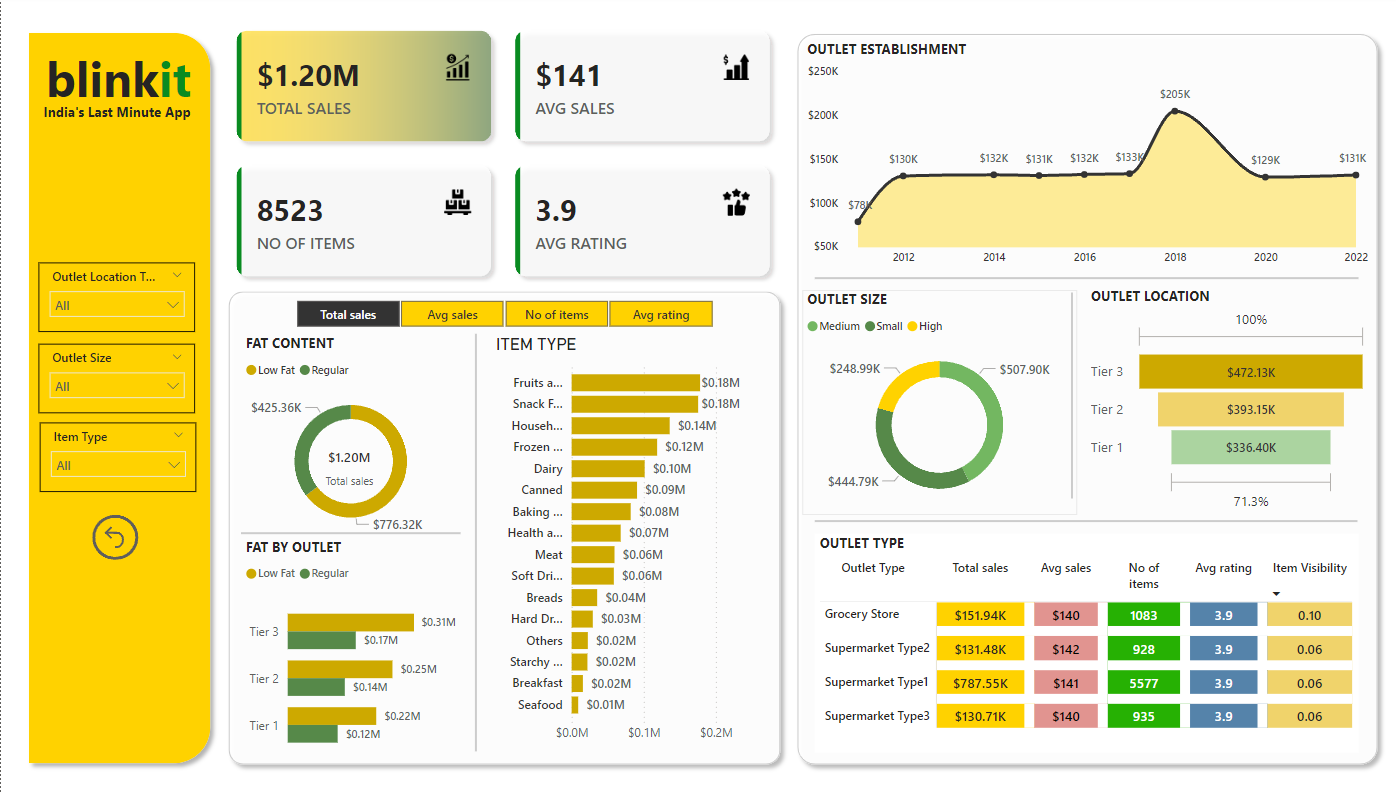

This screenshot's page, from the dashboard's own definition file:
{"tool":"powerbi","page":{"name":"Page 1","canvas":[1400,800],"ordinal":0},"visuals":[{"type":"cardVisual","fields":{"Data":["BlinkIT Grocery Data.Total sales","BlinkIT Grocery Data.Avg sales","BlinkIT Grocery Data.No of items","BlinkIT Grocery Data.Avg rating"]},"box":[218.8,13.6,569.3,281.3],"z":0},{"type":"shape","box":[18.6,24.3,200,750],"z":1000},{"type":"textbox","box":[31.4,40,172.9,90],"z":2000},{"type":"textbox","box":[37.1,97.1,167.1,32.9],"z":3000},{"type":"shape","box":[218.8,282.6,570.7,491.9],"z":4000},{"type":"donutChart","title":"FAT CONTENT","fields":{"Y":["BlinkIT Grocery Data.Total sales"],"Category":["BlinkIT Grocery Data.Item Fat Content"]},"box":[240.5,334.2,220.1,210.6],"z":5000},{"type":"slicer","fields":{"Values":["Metrics.Metrics"]},"box":[270.4,294.8,466,39.4],"z":6000},{"type":"cardVisual","fields":{"Data":["BlinkIT Grocery Data.Total sales"]},"box":[288.6,430,122.9,77.1],"z":7000},{"type":"clusteredBarChart","title":"FAT BY OUTLET","fields":{"Y":["BlinkIT Grocery Data.Total sales"],"Category":["BlinkIT Grocery Data.Outlet Location Type"],"Series":["BlinkIT Grocery Data.Item Fat Content"]},"box":[240.3,538.4,220.2,230.9],"z":8000},{"type":"shape","box":[240,518.6,220,31.4],"z":9000},{"type":"shape","box":[460.6,334.2,29.9,418.5],"z":10000},{"type":"barChart","title":"ITEM TYPE","fields":{"Y":["BlinkIT Grocery Data.Total sales"],"Category":["BlinkIT Grocery Data.Item Type"]},"box":[490.5,334.2,271.7,418.5],"z":11000},{"type":"shape","box":[789.4,24.5,599.2,750],"z":12000},{"type":"areaChart","title":"OUTLET ESTABLISHMENT","fields":{"Category":["BlinkIT Grocery Data.Outlet Establishment Year"],"Y":["BlinkIT Grocery Data.Total sales"]},"box":[802.8,40.3,571.9,234.9],"z":13000},{"type":"shape","box":[815.3,263,544.8,31.3],"z":14000},{"type":"donutChart","title":"OUTLET SIZE","fields":{"Y":["BlinkIT Grocery Data.Total sales"],"Category":["BlinkIT Grocery Data.Outlet Size"]},"box":[802.8,290.3,275.2,225.5],"z":15000},{"type":"shape","box":[1057.9,292.7,29.5,206.8],"z":16000},{"type":"funnel","title":"OUTLET LOCATION","fields":{"Y":["Sum(BlinkIT Grocery Data.Sales)"],"Category":["BlinkIT Grocery Data.Outlet Location Type"]},"box":[1087.5,286.3,287.3,229.6],"z":17000},{"type":"shape","box":[814.9,506.1,543.7,32.2],"z":18000},{"type":"pivotTable","title":"OUTLET TYPE","fields":{"Rows":["BlinkIT Grocery Data.Outlet Type"],"Values":["BlinkIT Grocery Data.Total sales","BlinkIT Grocery Data.Avg sales","BlinkIT Grocery Data.No of items","BlinkIT Grocery Data.Avg rating","Avg(BlinkIT Grocery Data.Item Visibility)"]},"box":[814.9,534.3,545.1,218.8],"z":19000},{"type":"slicer","fields":{"Values":["BlinkIT Grocery Data.Outlet Location Type"]},"box":[37.6,263.5,157.1,69.8],"z":20000},{"type":"slicer","fields":{"Values":["BlinkIT Grocery Data.Outlet Size"]},"box":[37.6,344,157.1,69.8],"z":21000},{"type":"slicer","fields":{"Values":["BlinkIT Grocery Data.Item Type"]},"box":[38.9,423.2,157.1,69.8],"z":22000},{"type":"actionButton","box":[91,516.3,46.2,44.8],"z":23000}]}

Visuals, with their boxes in screenshot pixels (x1, y1, x2, y2), scaled from the page's 1400x800 canvas onto the 1396x793 screenshot:
cardVisual - BlinkIT Grocery Data.Total sales x BlinkIT Grocery Data.Avg sales: detection(218, 13, 786, 292)
shape: detection(19, 24, 218, 768)
textbox: detection(31, 40, 204, 129)
textbox: detection(37, 96, 204, 129)
shape: detection(218, 280, 787, 768)
"FAT CONTENT" donutChart: detection(240, 331, 459, 540)
slicer - Metrics.Metrics: detection(270, 292, 734, 331)
cardVisual - BlinkIT Grocery Data.Total sales: detection(288, 426, 410, 503)
"FAT BY OUTLET" clusteredBarChart: detection(240, 534, 459, 763)
shape: detection(239, 514, 459, 545)
shape: detection(459, 331, 489, 746)
"ITEM TYPE" barChart: detection(489, 331, 760, 746)
shape: detection(787, 24, 1385, 768)
"OUTLET ESTABLISHMENT" areaChart: detection(801, 40, 1371, 273)
shape: detection(813, 261, 1356, 292)
"OUTLET SIZE" donutChart: detection(801, 288, 1075, 511)
shape: detection(1055, 290, 1084, 495)
"OUTLET LOCATION" funnel: detection(1084, 284, 1371, 511)
shape: detection(813, 502, 1355, 534)
"OUTLET TYPE" pivotTable: detection(813, 530, 1356, 747)
slicer - BlinkIT Grocery Data.Outlet Location Type: detection(37, 261, 194, 330)
slicer - BlinkIT Grocery Data.Outlet Size: detection(37, 341, 194, 410)
slicer - BlinkIT Grocery Data.Item Type: detection(39, 419, 195, 489)
actionButton: detection(91, 512, 137, 556)
